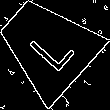L_NW: (18, 17, 75, 74)
